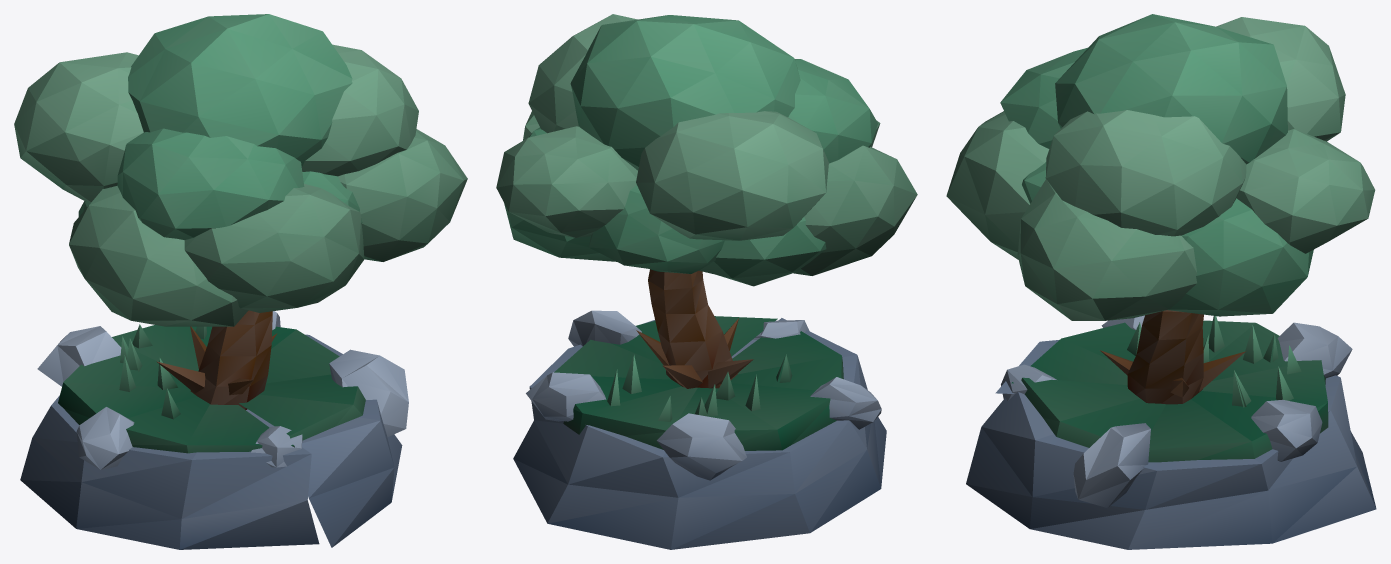
The model's file is pohon_oak_emerald_640927.glb.
3 renders of one model, left to right at view 1: azimuth 30°, elevation 25°; view 2: azimuth 150°, elevation 25°; view 3: azimuth 270°, elevation 25°, orthographic. The views are drawn at different scales.
Parts seen in each view (by area): view 1: Dedaunan_Kanopi, Pulau_Batu_Tepi_Sungai, Batang_Dan_Akar; view 2: Dedaunan_Kanopi, Pulau_Batu_Tepi_Sungai, Batang_Dan_Akar; view 3: Dedaunan_Kanopi, Pulau_Batu_Tepi_Sungai, Batang_Dan_Akar.
Part boxes in pixels (<box>): Dedaunan_Kanopi: <box>14,14,467,326</box>; Pulau_Batu_Tepi_Sungai: <box>20,311,408,549</box>; Batang_Dan_Akar: <box>156,310,277,409</box>; Dedaunan_Kanopi: <box>496,14,917,286</box>; Pulau_Batu_Tepi_Sungai: <box>513,310,886,549</box>; Batang_Dan_Akar: <box>636,269,753,388</box>; Dedaunan_Kanopi: <box>946,14,1375,320</box>; Pulau_Batu_Tepi_Sungai: <box>966,315,1376,549</box>; Batang_Dan_Akar: <box>1100,310,1245,404</box>.
Bounding box in the file's own units: 5.89 × 6.78 × 5.69.
